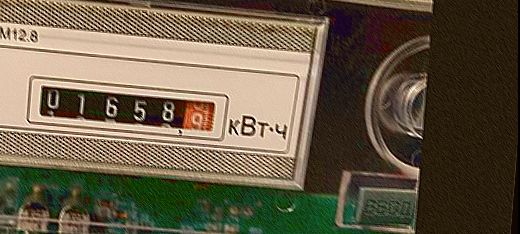0: (45, 85, 60, 108)
1: (75, 91, 86, 113)
5: (131, 96, 147, 120)
6: (102, 93, 118, 116)
8: (159, 97, 175, 120)
9: (187, 109, 202, 131)
screen: (19, 68, 235, 145)
